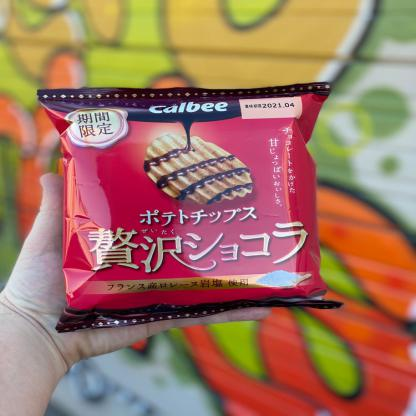potatochip: (32, 76, 348, 338)
